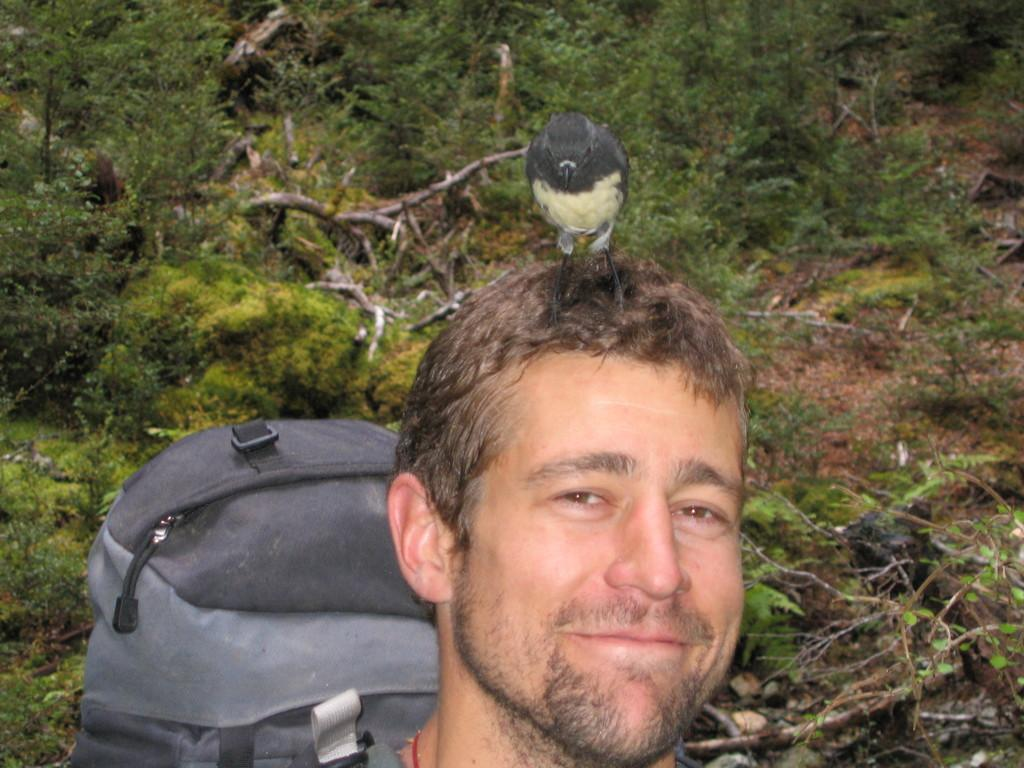Luggage-and-bags: (61, 409, 431, 767)
